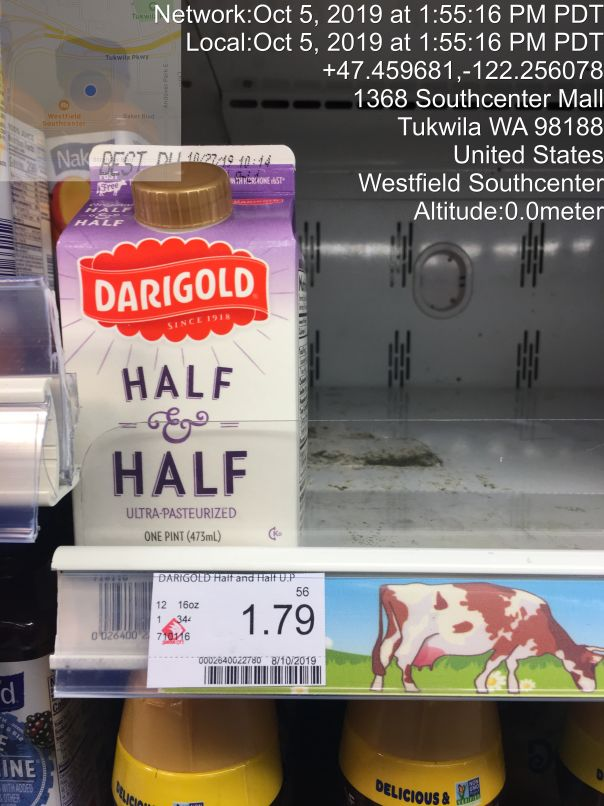Half and Half: (58, 132, 327, 543)
Label: (139, 555, 350, 698)
Location: (343, 80, 604, 196)
Time: (125, 4, 601, 57)
Void: (343, 167, 593, 543)
